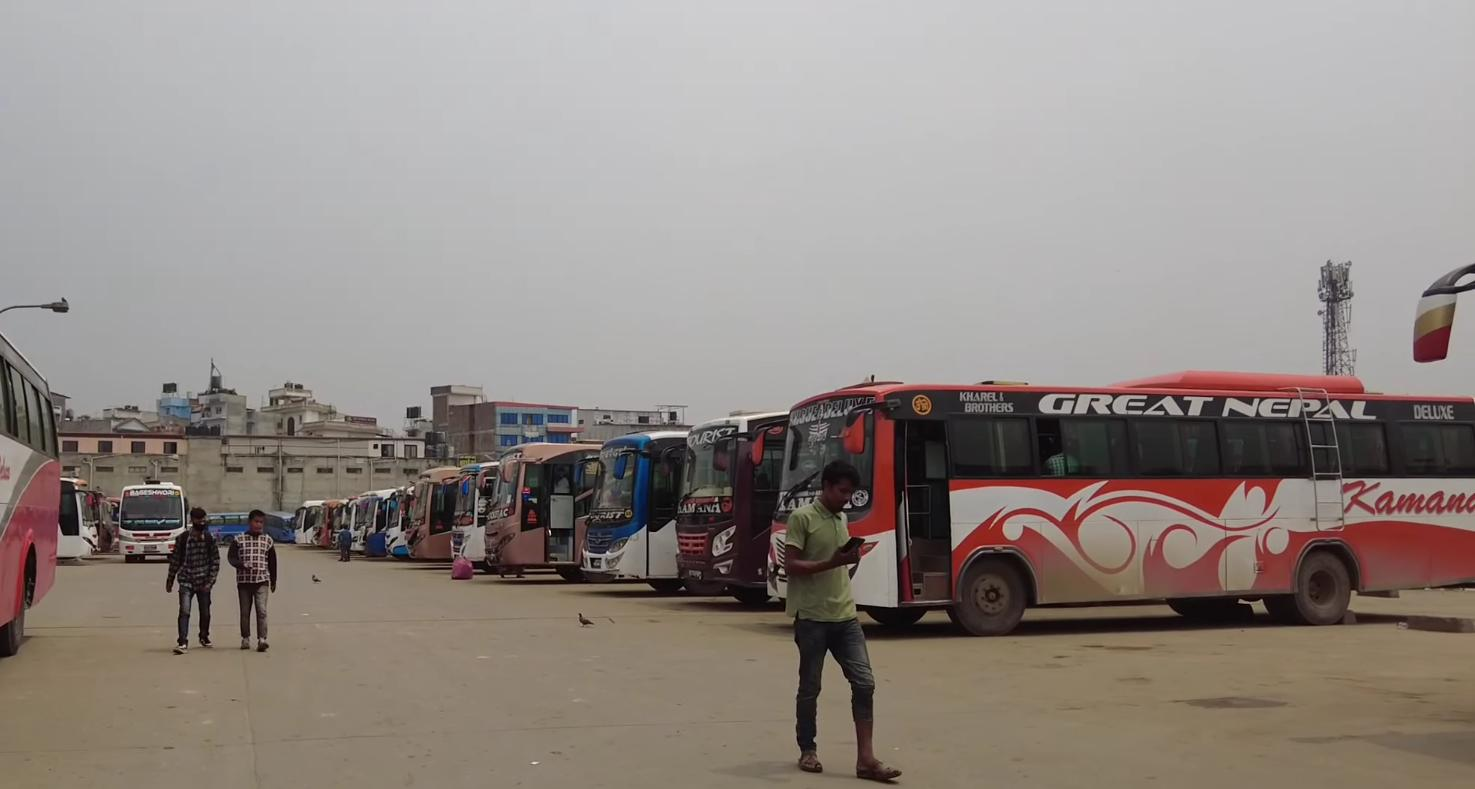bus: (760, 354, 1475, 634), (678, 403, 794, 604), (0, 329, 65, 675), (569, 424, 686, 598), (476, 430, 600, 591), (111, 473, 190, 563)
